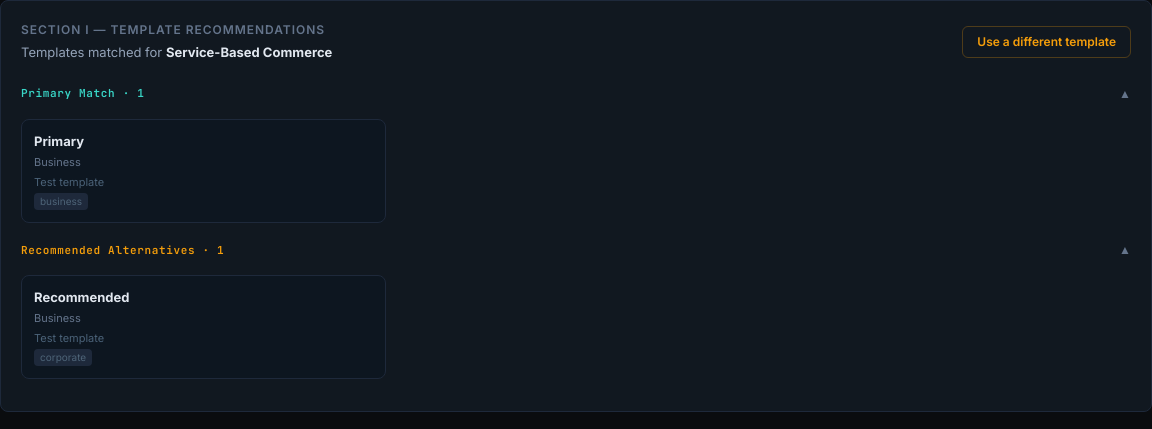
TemplateFilterPanel › opens override mode when toggle is clicked
Click the button "Use a different template" at (1047,42), box [962, 26, 1131, 58]
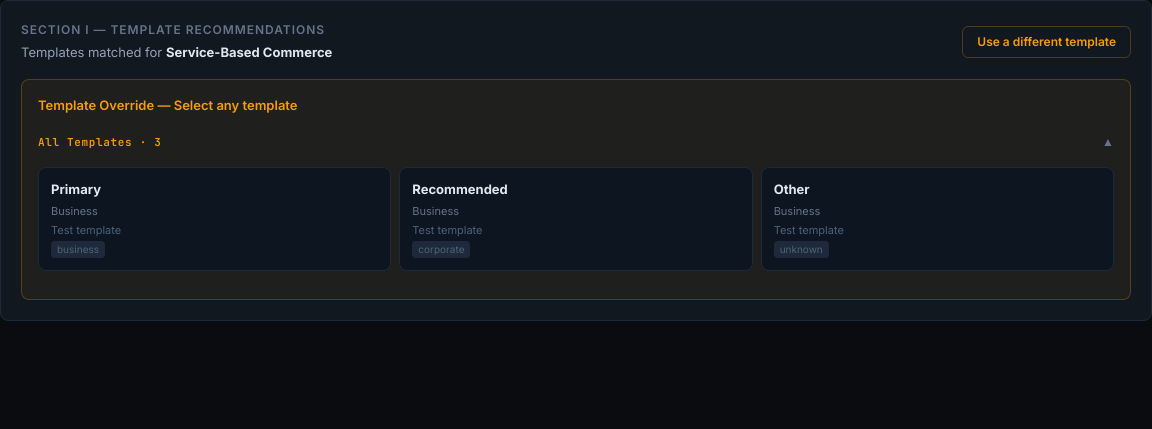
Result: the text "Template Override — Select any template" is shown at [38, 96, 298, 112]
